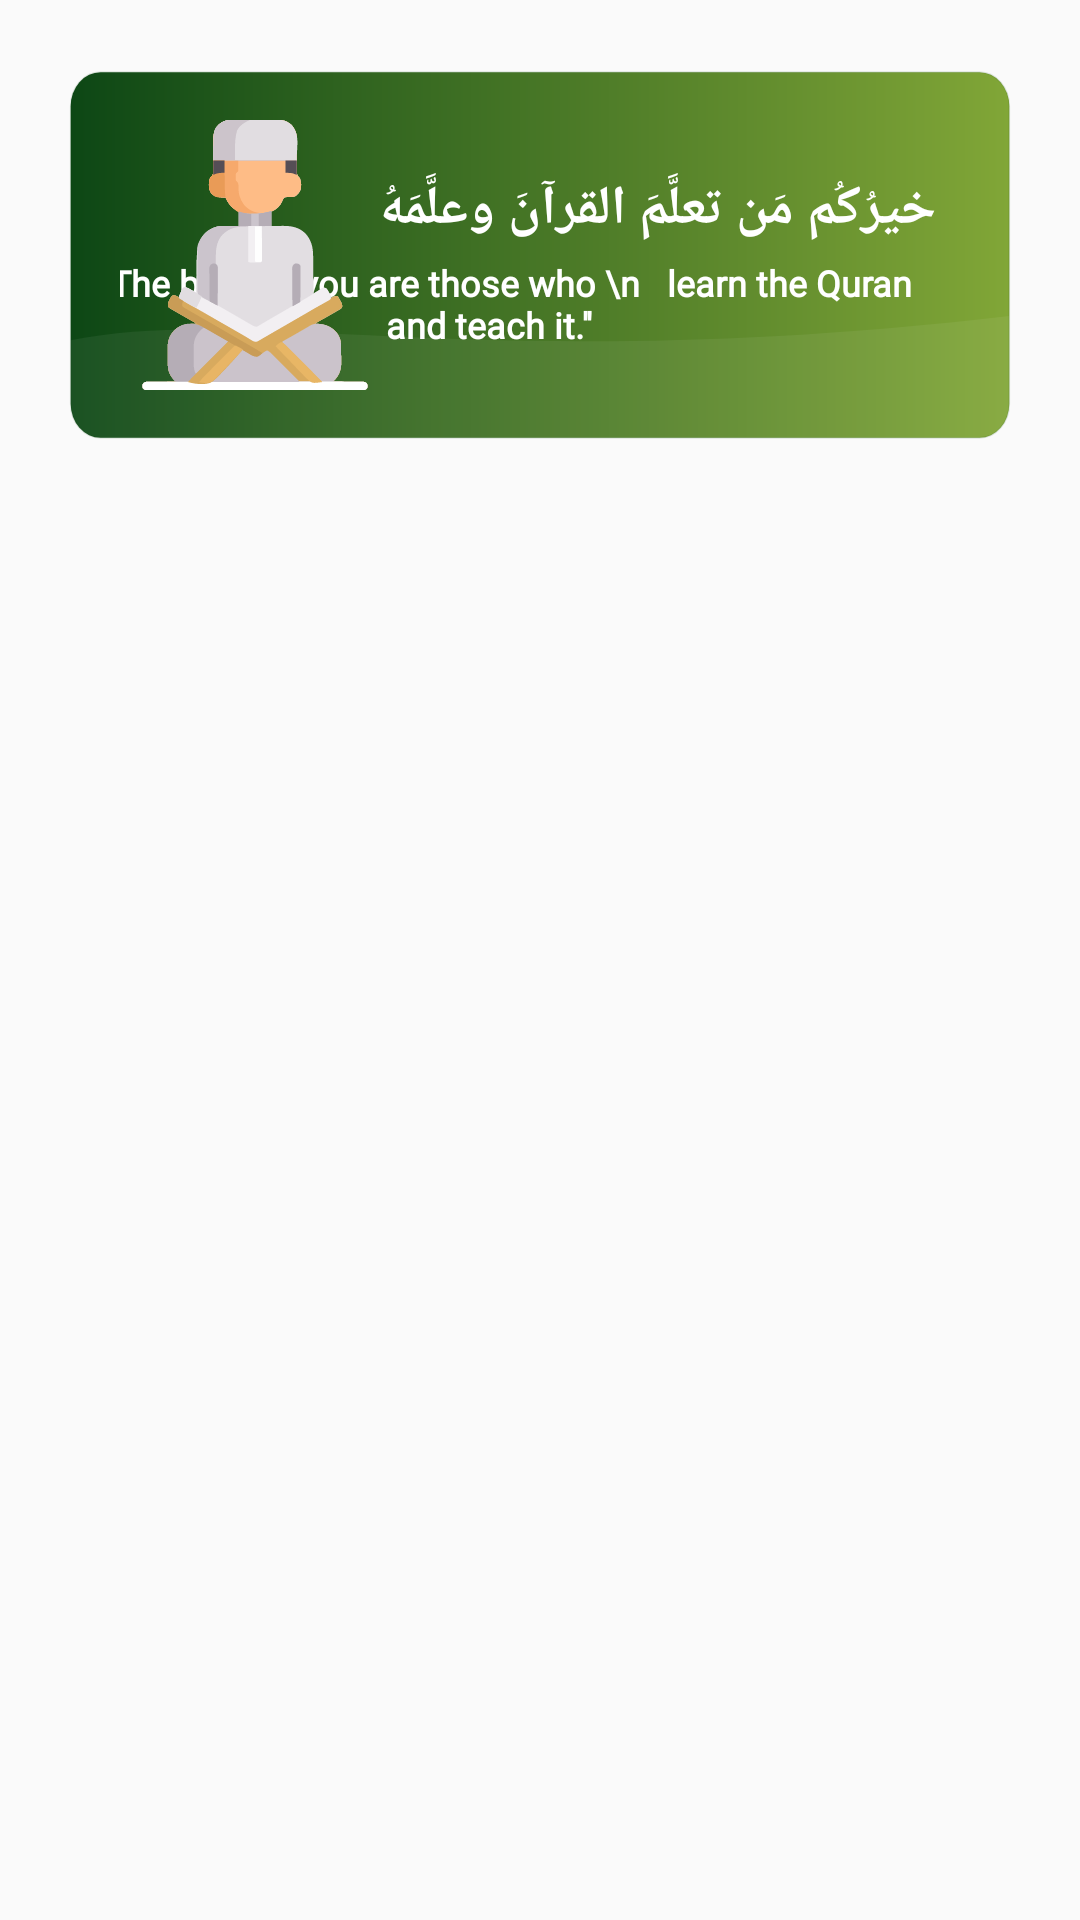

Icons on this 1080×1920 Android screen, each with the point to tap as point (x, y):
man: point (255, 255)
